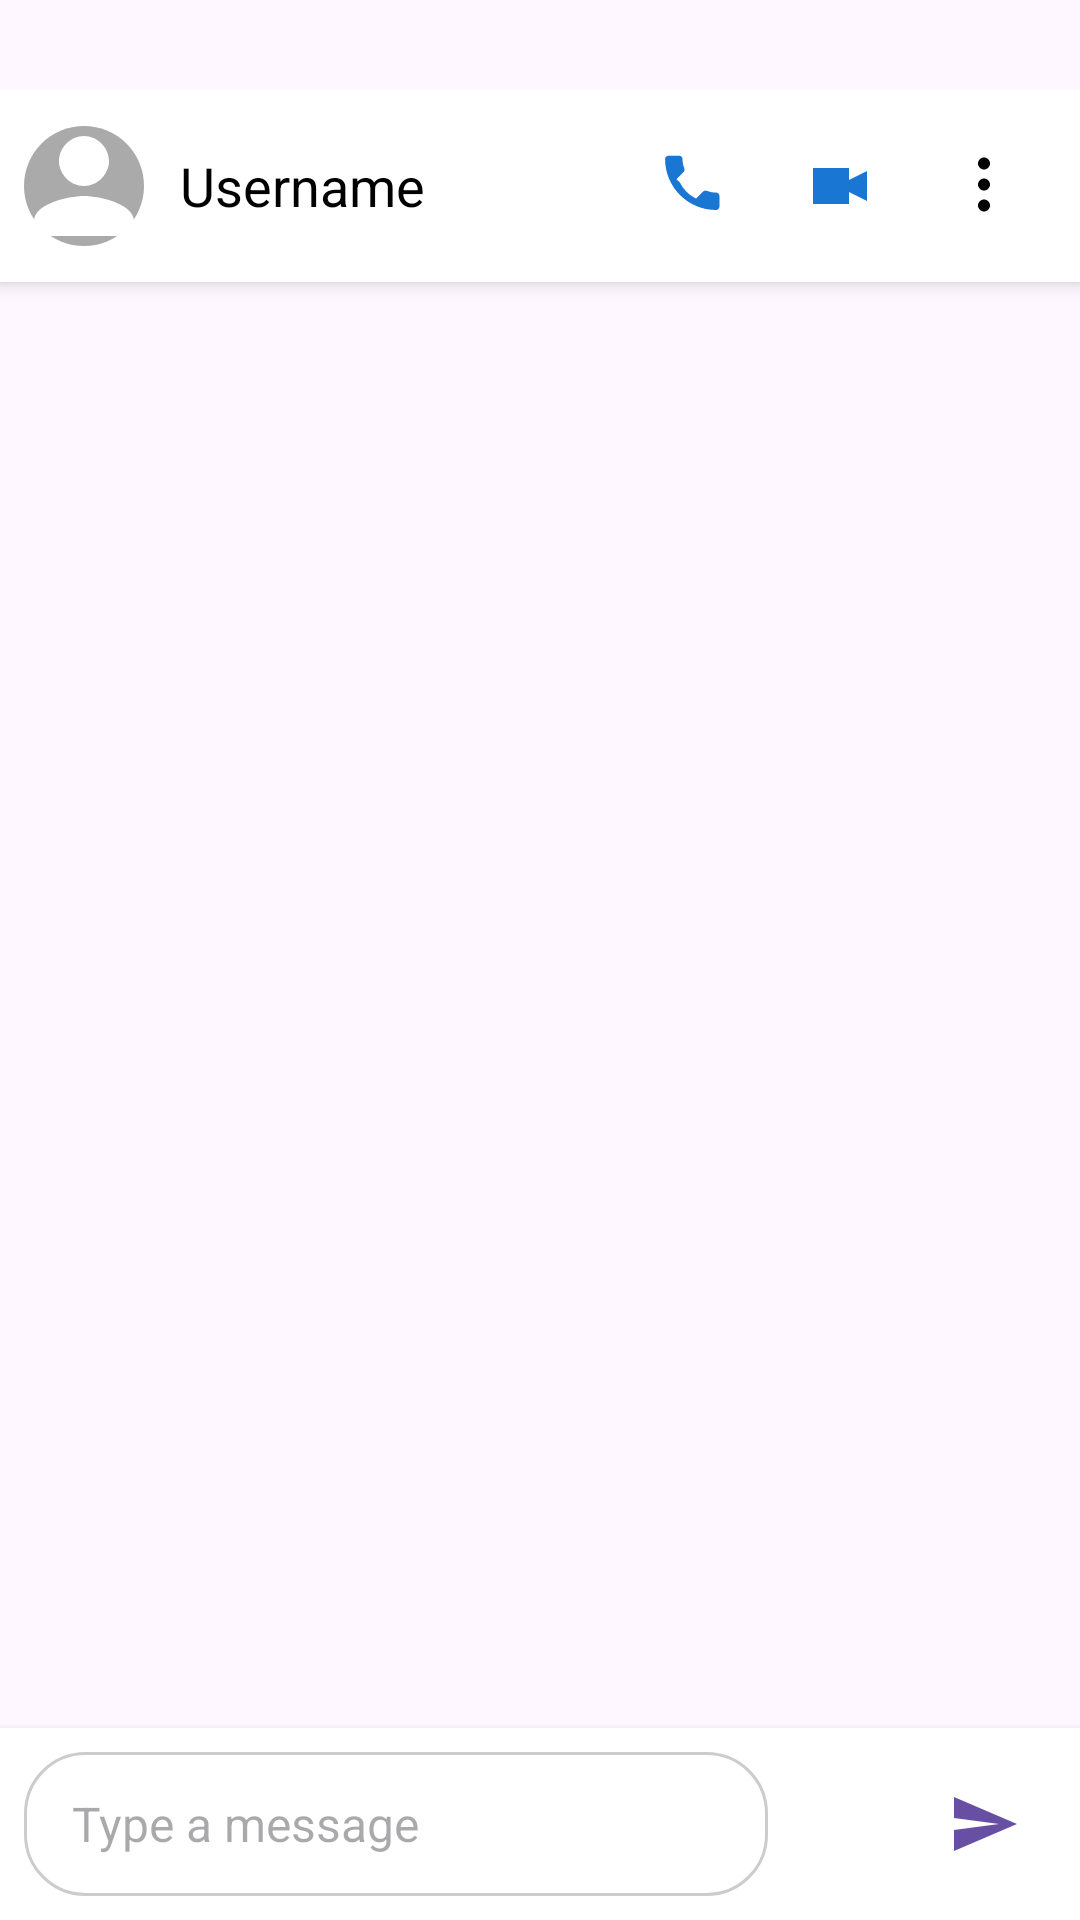

Icons on this 1080x1920 Android screen, each with the point to tap as (x,y):
More Options: (984,184)
profile: (84,186)
Send Message: (985,1824)
Video Call: (840,186)
Voice Call: (692,182)
